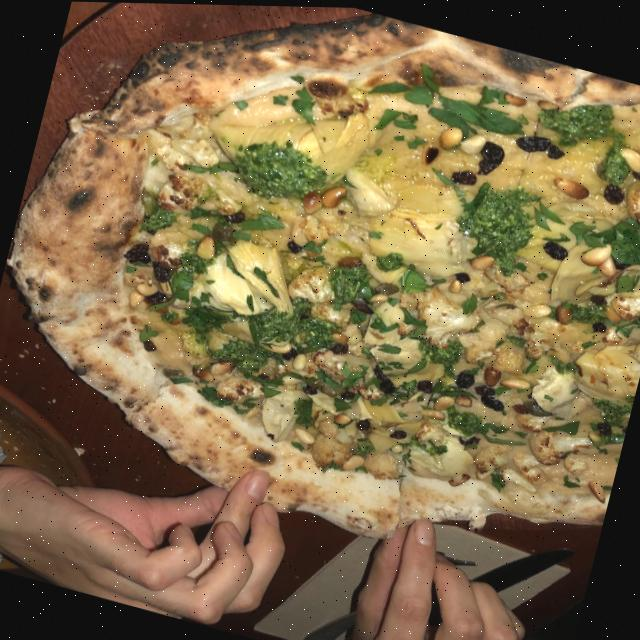pizza: (0, 0, 640, 592)
